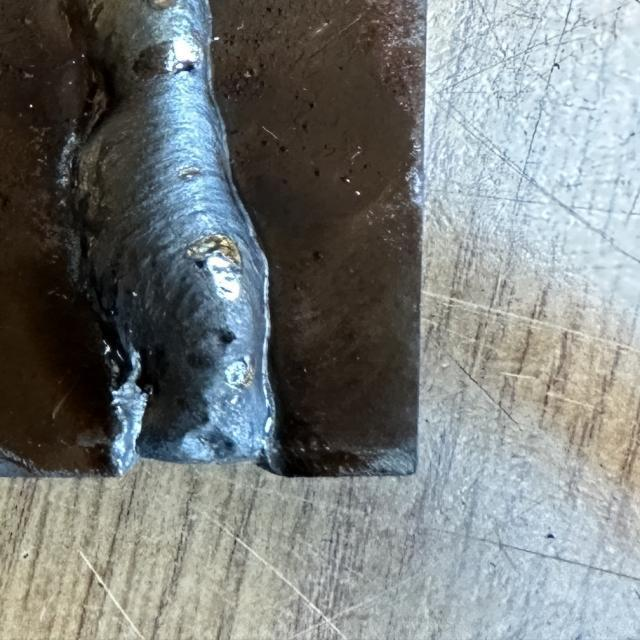Excess Reinforcement: (88, 0, 212, 84), (68, 89, 140, 230), (110, 349, 147, 474)
Spatters: (0, 194, 10, 213), (312, 250, 323, 261), (352, 146, 362, 158), (225, 32, 233, 44), (253, 36, 262, 46), (242, 70, 252, 78), (545, 534, 555, 540), (313, 168, 320, 176), (278, 146, 287, 152), (342, 176, 350, 182), (355, 190, 362, 196), (302, 122, 308, 129), (308, 100, 313, 107), (132, 291, 138, 296), (265, 8, 272, 12), (338, 66, 343, 70)
